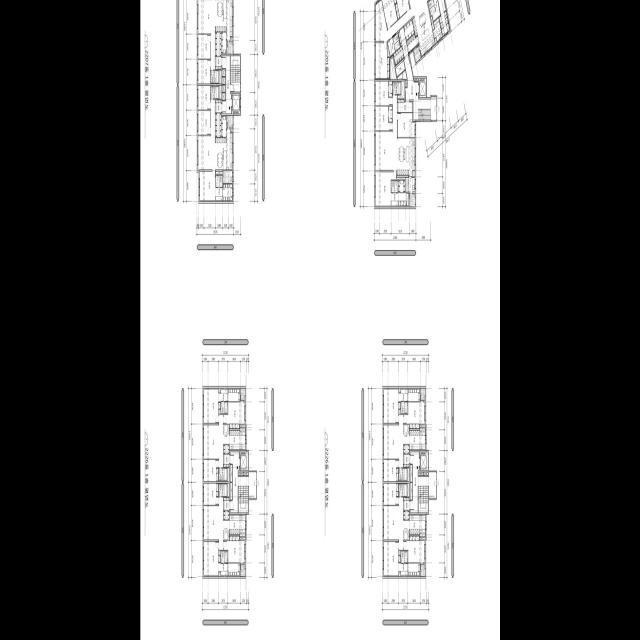background: (140, 0, 500, 640)
space_balconi: (413, 46, 421, 63), (409, 194, 415, 207)
space_bedroom: (375, 172, 396, 207), (403, 401, 425, 429), (403, 536, 425, 564), (223, 536, 245, 564), (223, 401, 245, 429), (383, 542, 400, 577), (383, 388, 400, 423), (203, 542, 220, 577), (203, 388, 220, 423), (375, 43, 389, 79), (199, 172, 215, 202), (382, 0, 397, 29), (375, 106, 392, 131), (398, 113, 415, 137), (375, 81, 392, 105), (383, 483, 398, 505), (203, 483, 218, 505), (383, 460, 398, 481), (203, 460, 218, 481), (197, 35, 210, 59), (198, 111, 210, 135), (198, 86, 210, 110), (198, 60, 210, 84), (395, 0, 409, 20), (388, 81, 392, 97), (388, 106, 392, 122)
space_dressroom: (439, 11, 450, 37), (223, 184, 233, 202), (408, 563, 419, 576), (408, 388, 419, 401), (228, 388, 239, 401), (228, 563, 239, 576), (398, 193, 408, 206), (398, 388, 407, 402), (398, 563, 407, 577), (218, 388, 227, 402), (218, 563, 227, 577), (398, 181, 405, 192)
space_elevator: (232, 94, 240, 114), (420, 452, 428, 471), (240, 452, 248, 471), (419, 78, 426, 97)
space_elevator_hall: (404, 56, 436, 120), (410, 452, 436, 513), (230, 452, 256, 513), (222, 56, 231, 114)
space_front: (398, 27, 408, 58), (393, 47, 404, 66), (404, 20, 414, 40), (397, 99, 412, 112), (215, 32, 221, 56), (215, 114, 221, 137), (403, 454, 409, 467), (403, 497, 409, 510), (215, 100, 221, 113), (223, 454, 229, 467), (223, 497, 229, 510), (215, 57, 221, 69)
space_kitchen: (412, 3, 435, 57), (215, 128, 233, 170), (215, 0, 233, 41), (397, 138, 415, 177), (403, 515, 425, 540), (403, 425, 425, 450), (223, 515, 245, 540), (223, 425, 245, 450), (221, 116, 226, 137), (221, 32, 226, 53)
space_living_room: (375, 0, 427, 41), (375, 95, 397, 170), (197, 100, 215, 171), (198, 0, 215, 70), (383, 498, 403, 550), (383, 415, 403, 467), (203, 415, 223, 467), (203, 498, 223, 550)
space_other: (406, 34, 418, 53), (433, 18, 442, 42), (395, 61, 405, 77), (405, 178, 415, 193), (390, 58, 397, 79), (223, 171, 233, 183), (398, 81, 404, 99), (397, 70, 407, 79), (403, 445, 409, 454), (403, 511, 409, 520), (223, 445, 229, 454), (223, 511, 229, 520), (431, 16, 434, 30), (387, 45, 390, 57), (410, 465, 412, 482), (410, 483, 412, 500), (230, 483, 232, 500), (230, 465, 232, 482), (407, 468, 409, 482), (407, 483, 409, 497), (227, 483, 229, 497), (227, 468, 229, 482), (219, 71, 221, 84), (219, 86, 221, 99), (222, 77, 225, 84), (222, 85, 225, 92), (222, 69, 225, 76), (222, 93, 225, 100), (418, 472, 423, 476), (423, 472, 428, 476), (243, 472, 248, 476), (238, 472, 243, 476), (434, 38, 437, 44), (419, 537, 425, 540), (239, 537, 245, 540), (397, 178, 405, 180), (413, 78, 418, 81), (412, 171, 415, 176), (405, 81, 407, 87), (216, 172, 222, 174), (230, 128, 233, 132), (420, 425, 425, 427), (240, 425, 245, 427), (399, 388, 400, 392), (399, 551, 400, 555), (399, 410, 400, 414), (399, 572, 400, 576), (219, 572, 220, 576), (219, 551, 220, 555), (219, 410, 220, 414), (219, 388, 220, 392)
space_outdoor_room: (227, 42, 233, 54), (227, 116, 233, 127), (420, 388, 425, 400), (420, 565, 425, 577), (240, 565, 245, 577), (240, 388, 245, 400)
space_staircase: (231, 56, 240, 92), (418, 486, 428, 513), (238, 486, 248, 513), (418, 109, 430, 120)
space_toilet: (428, 0, 440, 21), (387, 38, 395, 56), (438, 0, 446, 15), (399, 468, 407, 481), (399, 484, 407, 497), (210, 86, 218, 99), (219, 468, 227, 481), (219, 484, 227, 497), (392, 82, 400, 94), (210, 71, 218, 83), (391, 193, 398, 206), (216, 188, 222, 202), (394, 40, 400, 51), (393, 33, 399, 44), (394, 181, 398, 193), (391, 181, 394, 193), (401, 551, 404, 563), (401, 402, 404, 414), (404, 402, 407, 414), (404, 551, 407, 563), (221, 402, 224, 414), (224, 402, 227, 414), (224, 551, 227, 563), (221, 551, 224, 563), (216, 176, 219, 187), (219, 176, 222, 187)
